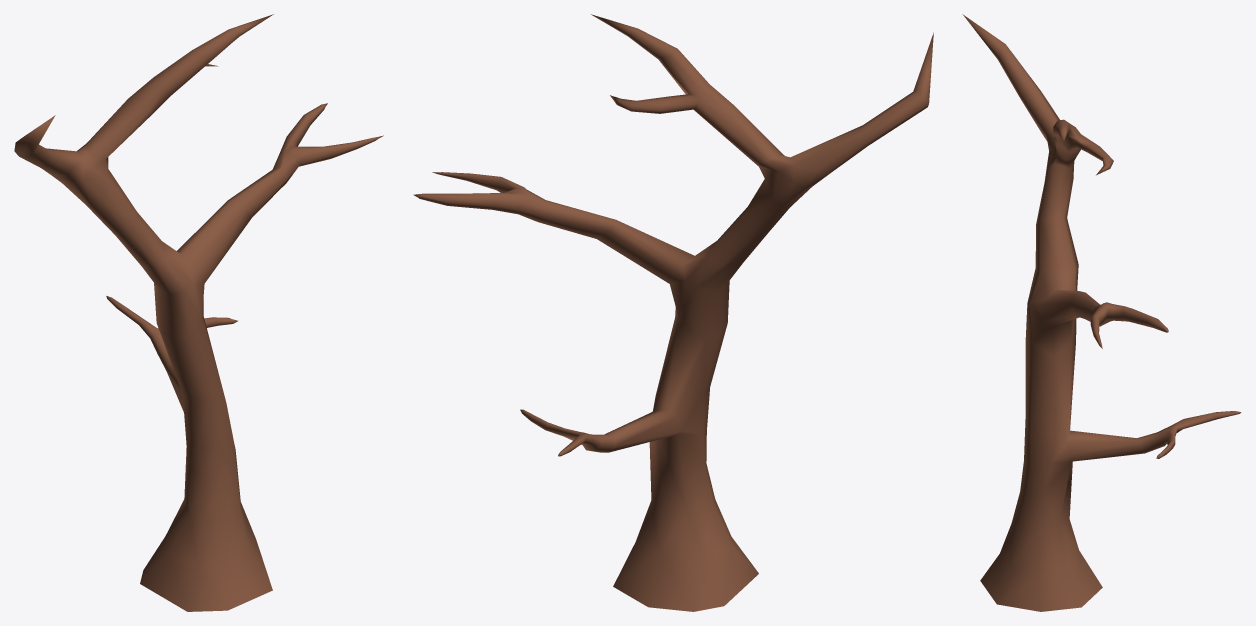
Rendered from Arvore_1.fbx.
3 views of the same model, side by side, from view 1: azimuth 30°, elevation 25°; view 2: azimuth 150°, elevation 25°; view 3: azimuth 270°, elevation 25° (orthographic). The views are drawn at different scales.
Visible parts, largest first — view 1: Arvore_1; view 2: Arvore_1; view 3: Arvore_1.
Boxes of the visible parts, x1,y1,x2,y2 form: Arvore_1: [14, 14, 383, 611]; Arvore_1: [413, 14, 933, 611]; Arvore_1: [962, 14, 1241, 611].
Bounding box in the file's own units: 4.14 × 6.5 × 7.98.
